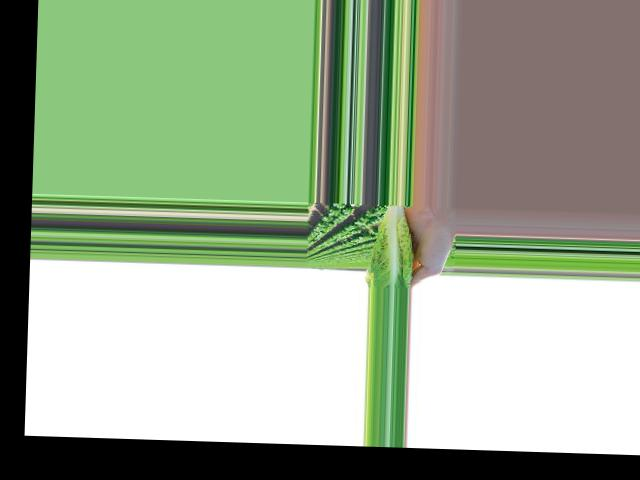lettuce: (367, 203, 414, 286)
